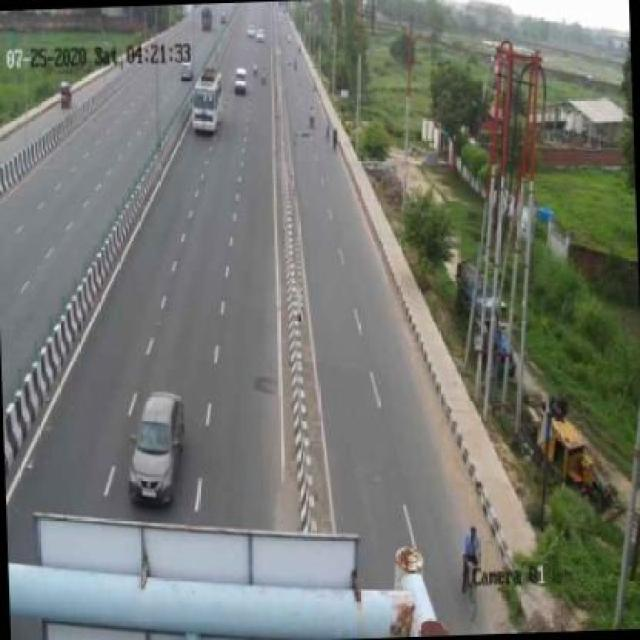car: (128, 391, 186, 506), (229, 66, 251, 97)
